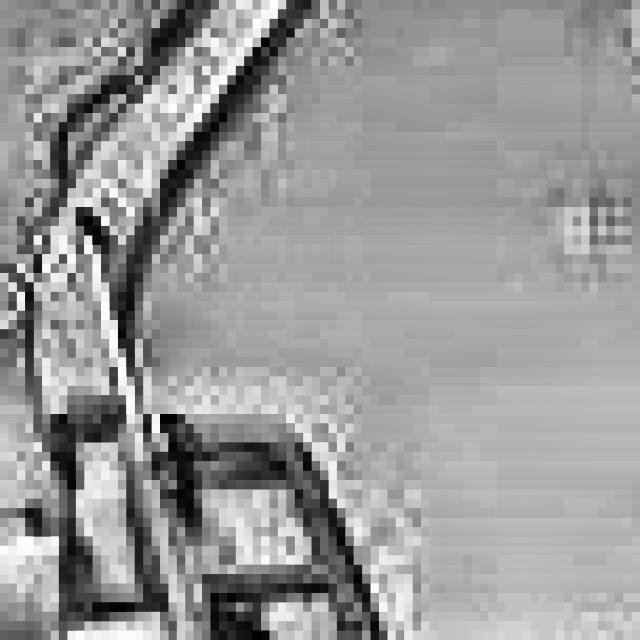excavator: (0, 273, 514, 640)
